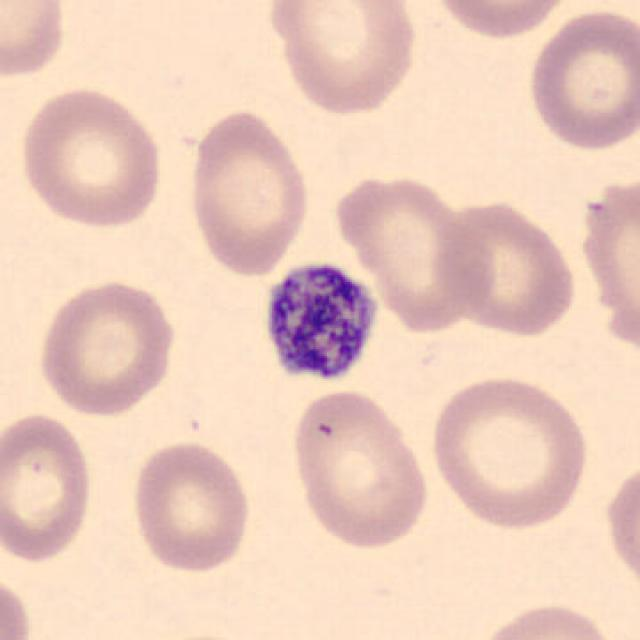Platelets: (256, 254, 384, 390)
RBC: (329, 169, 496, 333), (425, 370, 594, 532), (286, 386, 434, 552), (14, 83, 167, 231), (183, 105, 313, 278), (34, 275, 180, 418), (438, 196, 582, 340), (263, 0, 423, 118), (126, 437, 254, 575), (523, 5, 638, 155), (0, 409, 96, 566), (574, 164, 638, 360), (471, 599, 626, 640), (428, 0, 580, 41), (0, 0, 71, 83), (601, 453, 640, 600), (0, 569, 36, 640), (148, 629, 262, 640)
